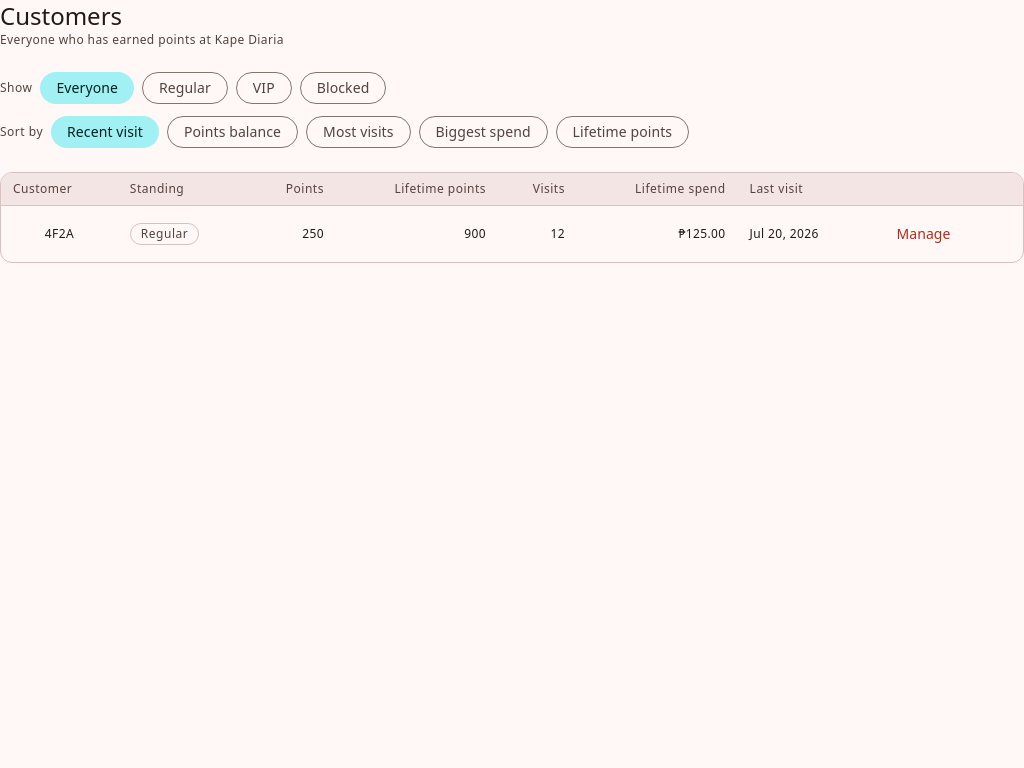
Test: CustomersManager: the segment flow › shows the server's refusal instead of closing the dialog
Click the button "Manage" at (924, 234), box x1=880 y1=218 x2=967 y2=250
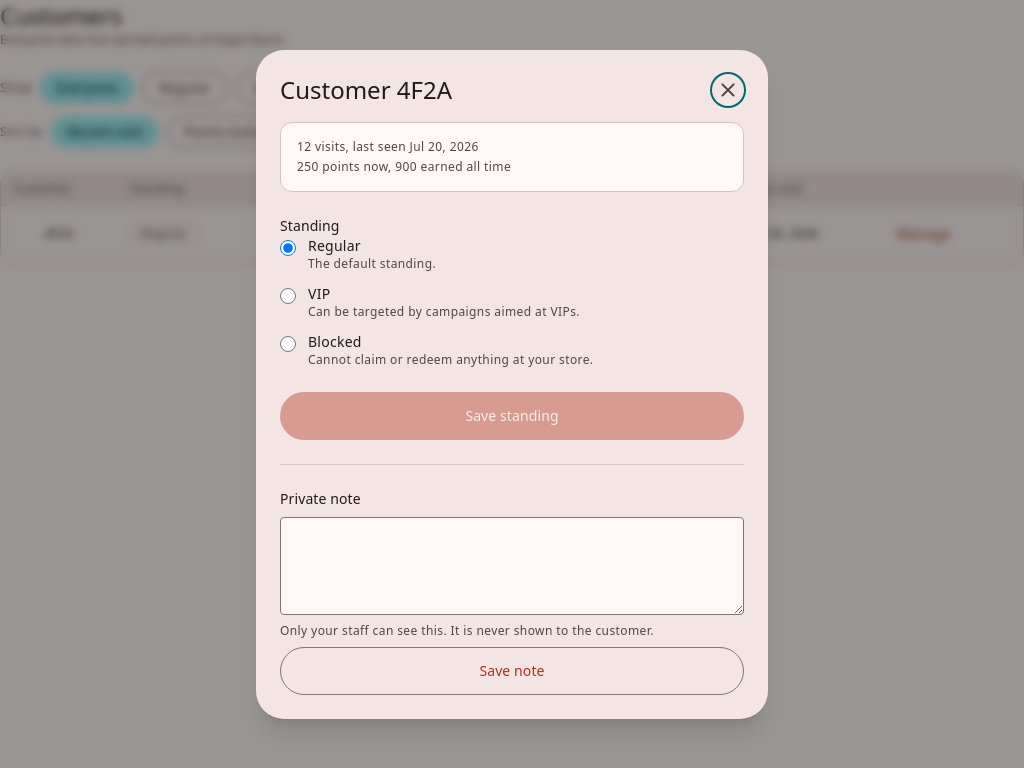
Click the radio button labelled "Blocked Cannot claim or redeem anything at your store." at (288, 344), box x1=280 y1=336 x2=296 y2=352
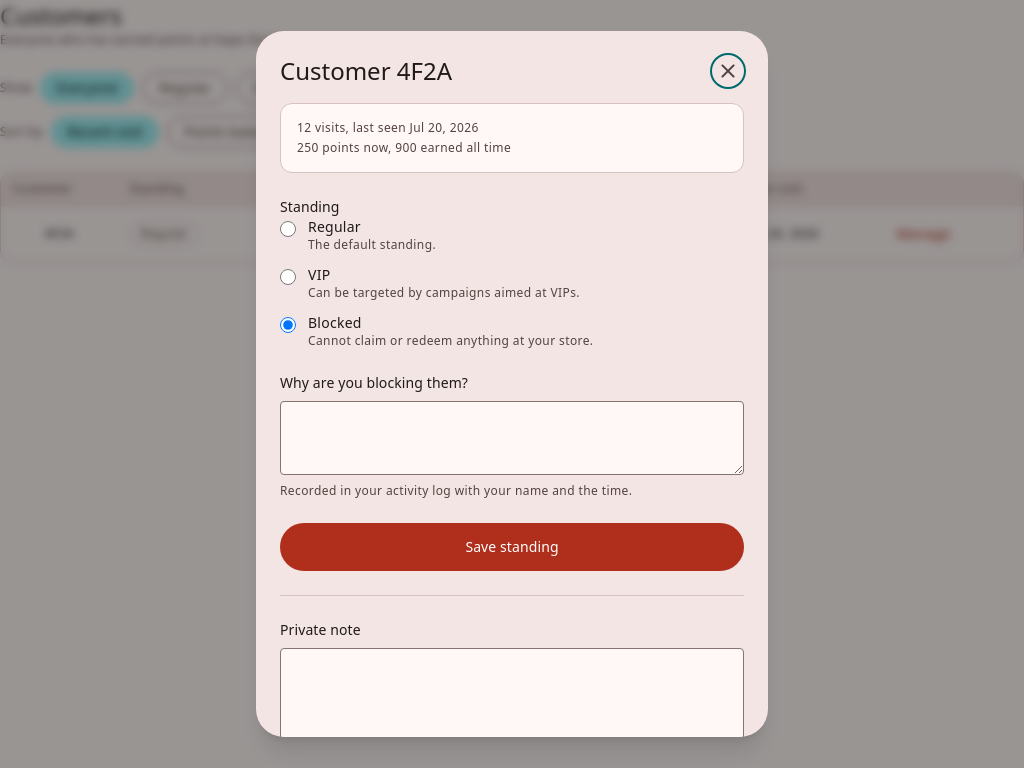
Click the button "Save standing" at (512, 547), box x1=280 y1=523 x2=744 y2=571
(page scrolled)
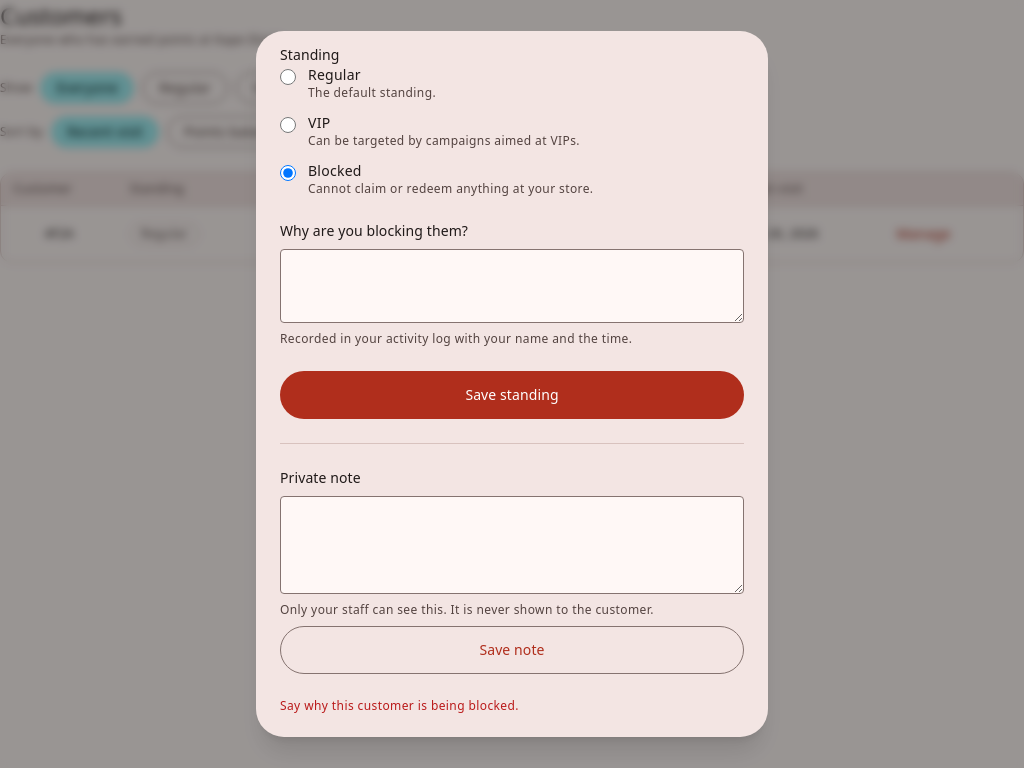
Now the message reads "Say why this customer is being blocked.", box x1=280 y1=697 x2=519 y2=714
